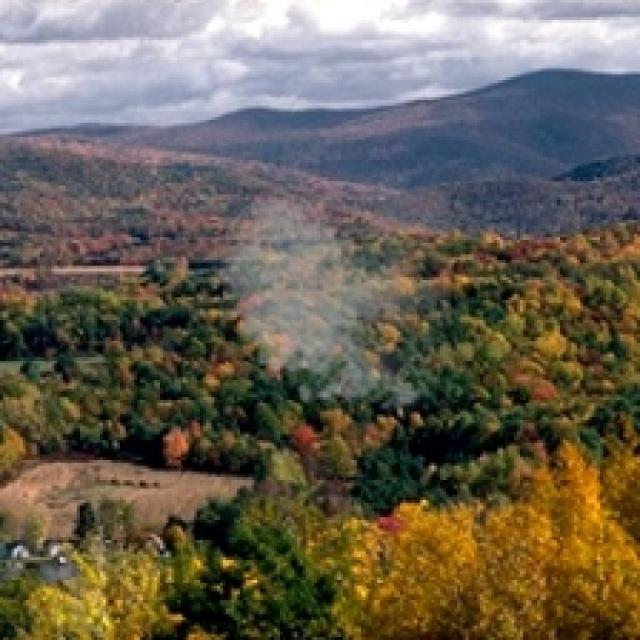smoke: (203, 189, 451, 417)
